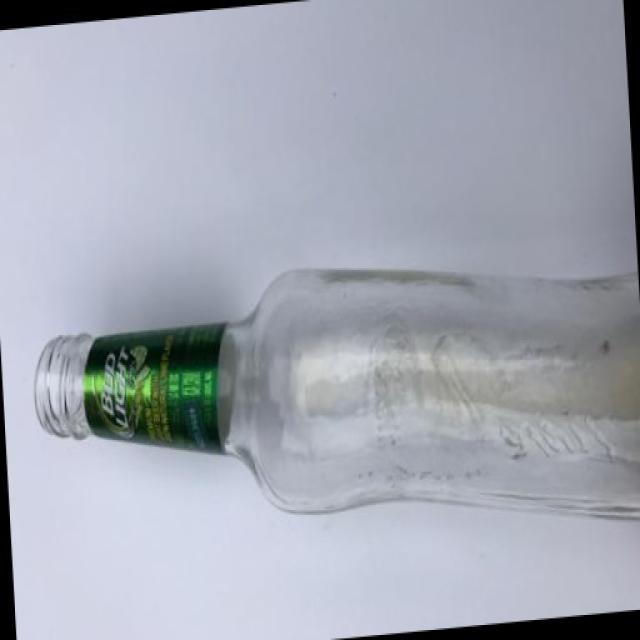vidrio: (4, 242, 640, 563)
